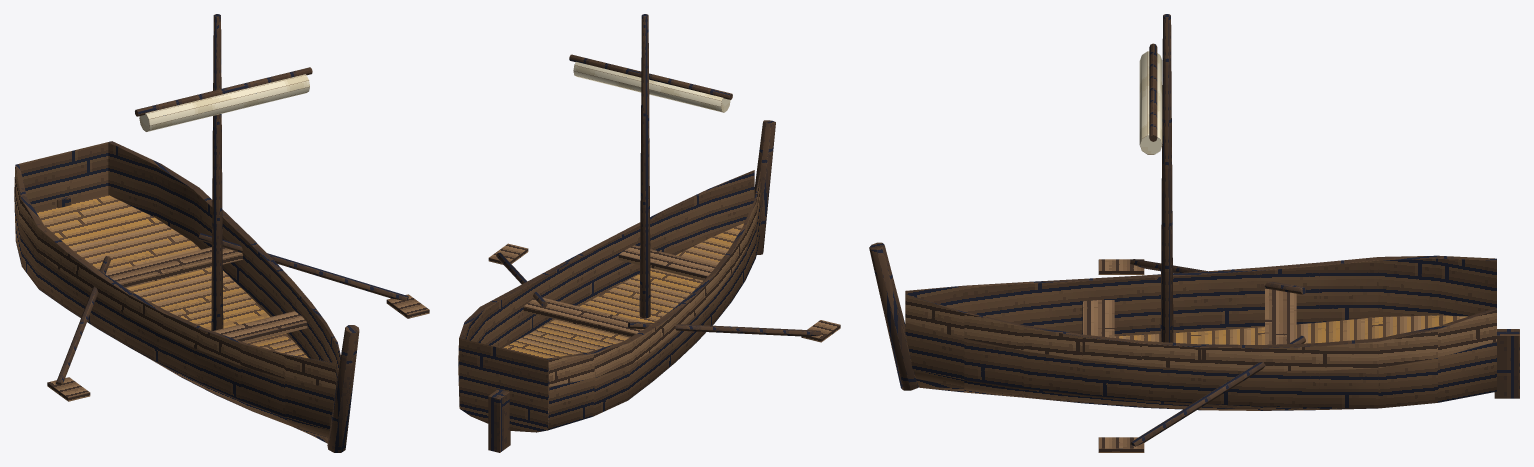
Rendered from med_ship_2.glb.
3 views of the same model, side by side, from view 1: azimuth 30°, elevation 25°; view 2: azimuth 150°, elevation 25°; view 3: azimuth 270°, elevation 25° (orthographic). The views are drawn at different scales.
Parts seen in each view (by area): view 1: med_ship_3; view 2: med_ship_3; view 3: med_ship_3.
Boxes of the visible parts, x1,y1,x2,y2 form: med_ship_3: (14,14,429,452); med_ship_3: (458,14,840,452); med_ship_3: (869,14,1519,452).
Size of the model in its own units: 3.94 by 3.75 by 5.72.
Materials: 5 (5 with a texture image).
